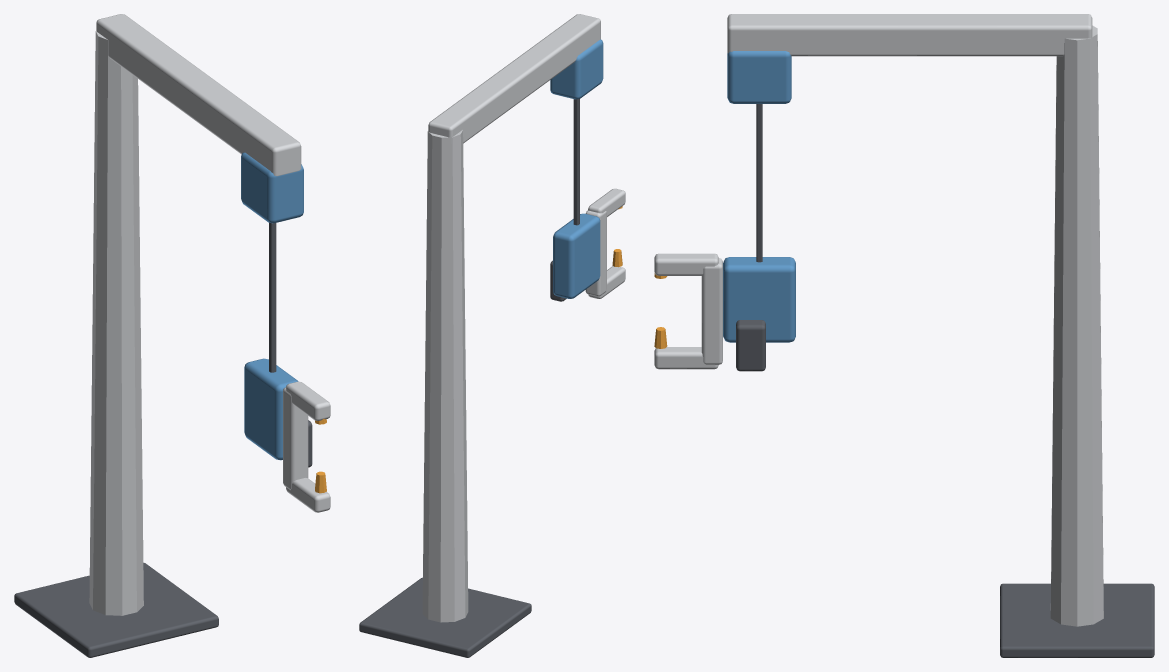
Rendered from spot-weld-gun-on-balancer.glb.
3 views of the same model, side by side, from view 1: azimuth 30°, elevation 25°; view 2: azimuth 150°, elevation 25°; view 3: azimuth 270°, elevation 25° (orthographic). The views are drawn at different scales.
Parts seen in each view (by area): view 1: spot-weld-gun-on-balancer; view 2: spot-weld-gun-on-balancer; view 3: spot-weld-gun-on-balancer.
Boxes of the visible parts, bbox=[...] form: spot-weld-gun-on-balancer: bbox=[14, 14, 330, 657]; spot-weld-gun-on-balancer: bbox=[359, 14, 625, 657]; spot-weld-gun-on-balancer: bbox=[654, 14, 1154, 657].
Size of the model in its own units: 0.7199 by 3.12 by 2.33.
